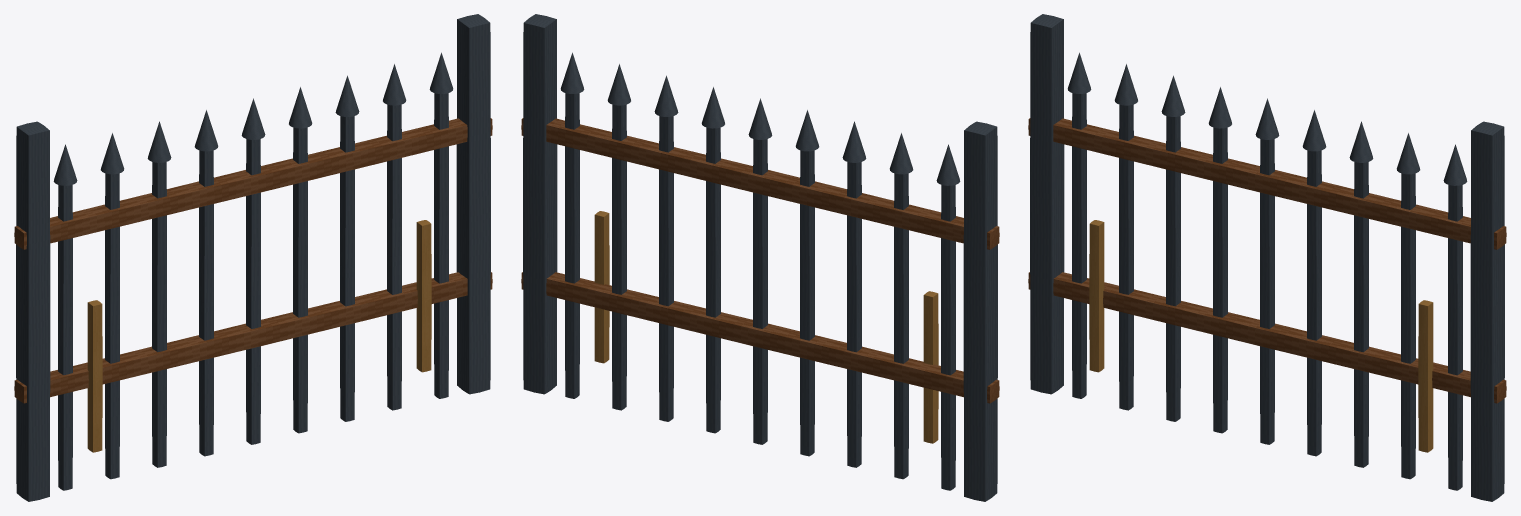
3 views of the same model, side by side, from view 1: azimuth 30°, elevation 25°; view 2: azimuth 150°, elevation 25°; view 3: azimuth 330°, elevation 25° (orthographic).
Parts seen in each view (by area): view 1: iron.0, iron.1, wood.3, wood.2, iron.4, iron.20, iron.18, iron.6, iron.16, iron.8, iron.14, iron.10 (+12 smaller); view 2: iron.0, iron.1, wood.3, wood.2, iron.4, iron.20, iron.6, iron.8, iron.18, iron.16, iron.10, iron.14 (+12 smaller); view 3: iron.1, iron.0, wood.3, wood.2, iron.20, iron.4, iron.18, iron.16, iron.6, iron.8, iron.14, iron.10 (+12 smaller).
Part boxes in pixels (box(x1,y1,x2,y2)): iron.0: box(16, 121, 50, 501); iron.1: box(456, 14, 490, 394); wood.3: box(14, 118, 492, 249); wood.2: box(14, 272, 492, 403); iron.4: box(58, 185, 72, 490); iron.20: box(434, 93, 448, 398); iron.18: box(387, 104, 401, 410); iron.6: box(105, 173, 119, 479); iron.16: box(340, 116, 354, 421); iron.8: box(152, 162, 166, 467); iron.14: box(293, 127, 307, 433); iron.10: box(199, 150, 213, 456); iron.0: box(963, 121, 997, 501); iron.1: box(523, 14, 557, 394); wood.3: box(521, 118, 999, 249); wood.2: box(521, 272, 999, 403); iron.4: box(941, 185, 955, 490); iron.20: box(565, 93, 579, 398); iron.6: box(894, 173, 908, 479); iron.8: box(847, 162, 861, 467); iron.18: box(612, 104, 626, 410); iron.16: box(659, 116, 673, 421); iron.10: box(800, 150, 814, 456); iron.14: box(706, 127, 720, 433); iron.1: box(1470, 121, 1504, 501); iron.0: box(1030, 14, 1064, 394); wood.3: box(1028, 118, 1506, 249); wood.2: box(1028, 272, 1506, 403); iron.20: box(1448, 185, 1462, 490); iron.4: box(1072, 93, 1086, 398); iron.18: box(1401, 173, 1415, 479); iron.16: box(1354, 162, 1368, 467); iron.6: box(1119, 104, 1133, 410); iron.8: box(1166, 116, 1180, 421); iron.14: box(1307, 150, 1321, 456); iron.10: box(1213, 127, 1227, 433).
Size of the model in its own units: 1.6 by 1.2 by 0.0935.
Materials: 3 (3 with a texture image).
